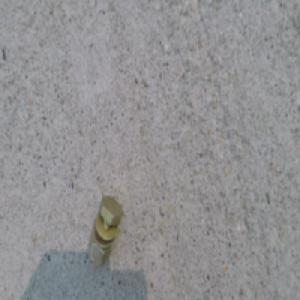BoltNutSet: (93, 191, 126, 263)
